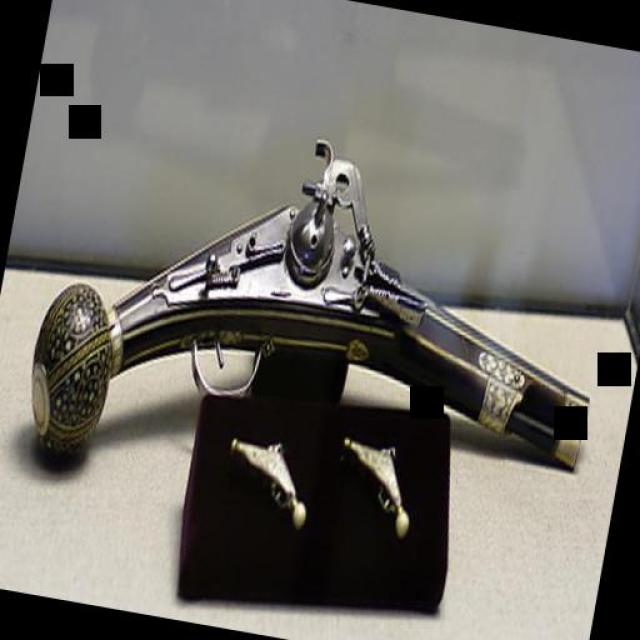gun: (16, 86, 629, 562)
